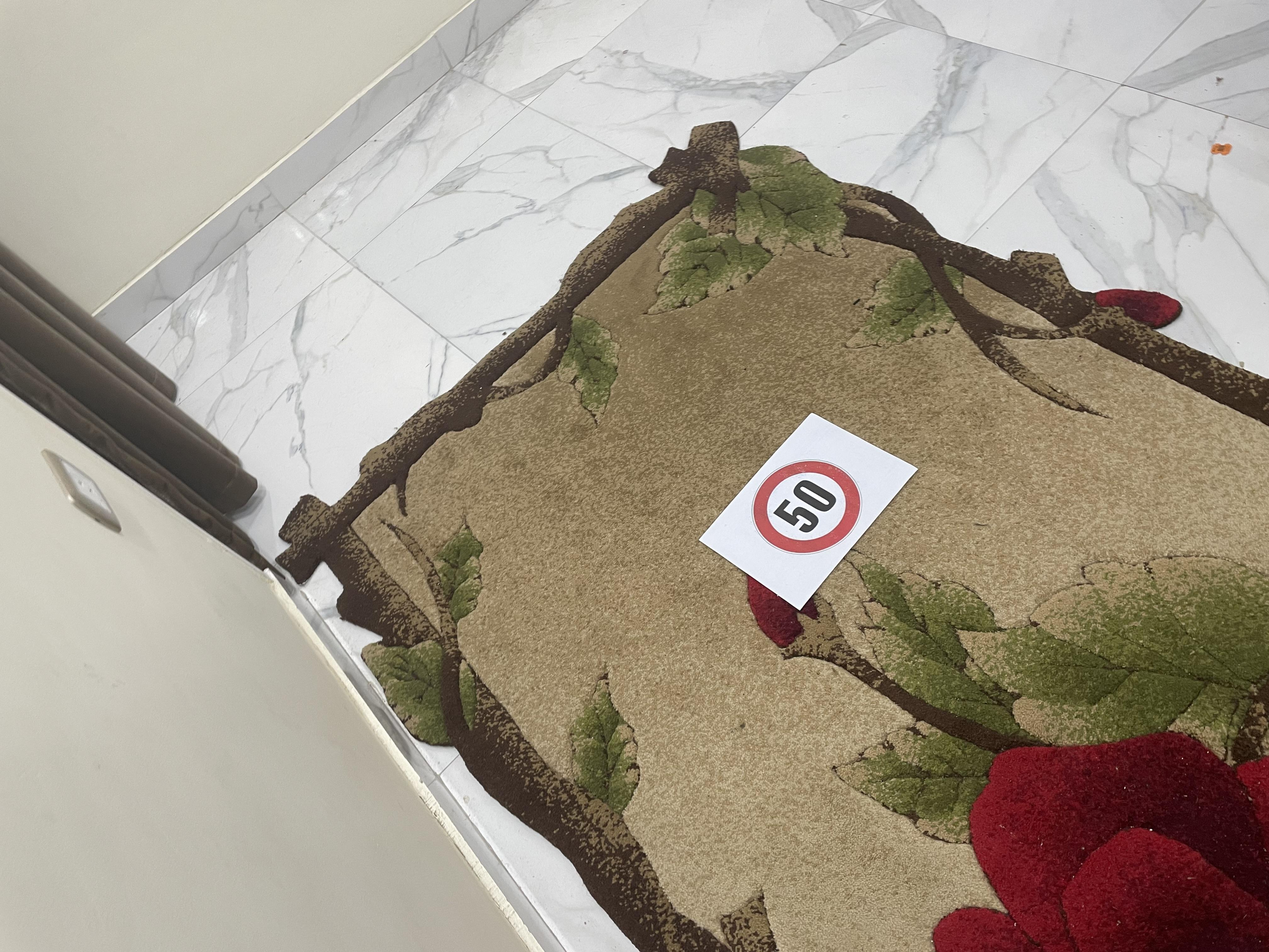50-Speed: (530, 561, 659, 646)
